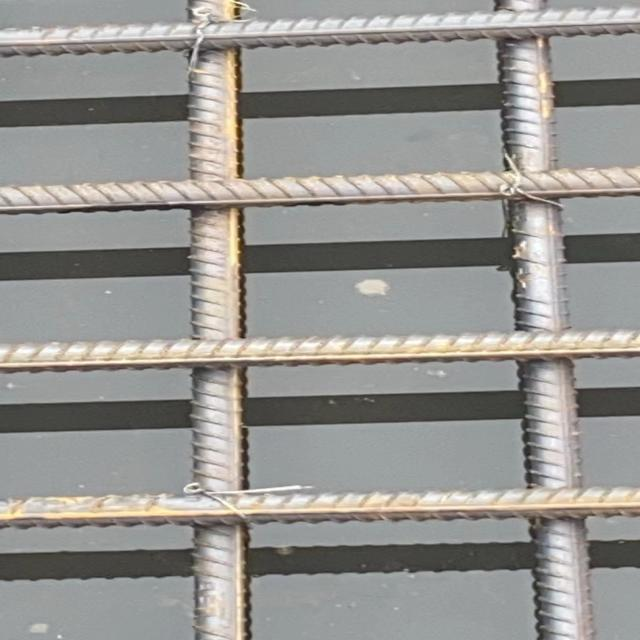ribbed bar: (493, 0, 597, 639), (183, 0, 250, 639), (0, 4, 639, 60), (0, 165, 639, 217), (0, 325, 639, 375), (0, 484, 639, 530)
